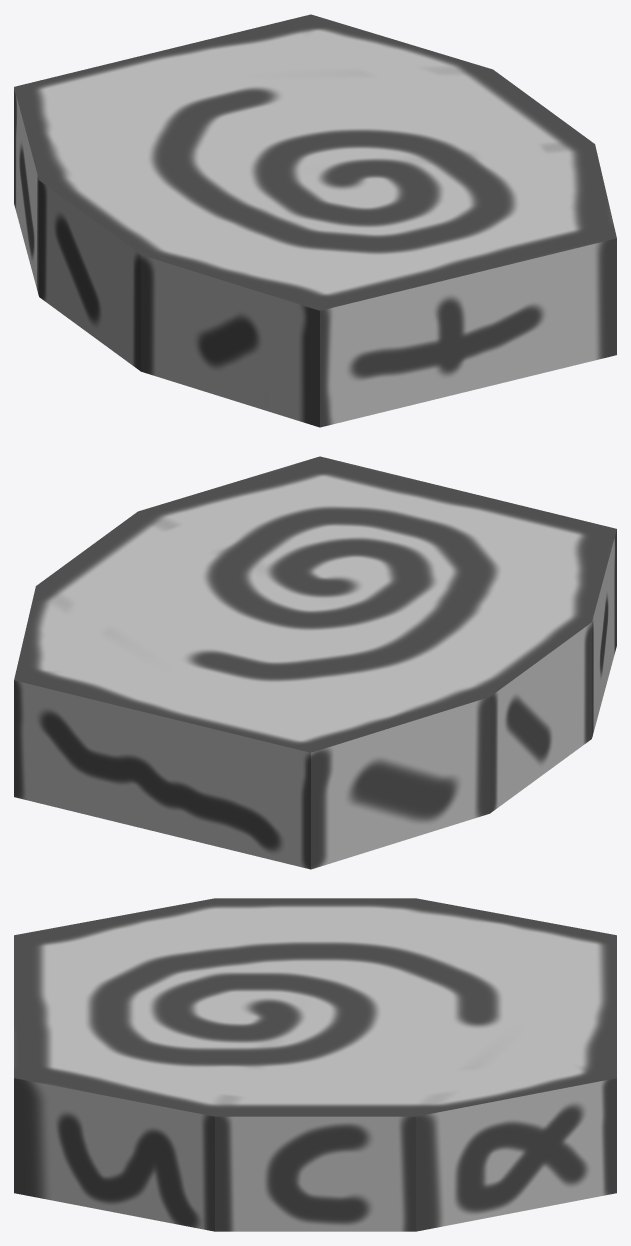
File: Stone6.fbx
The picture shows the model from 3 angles, top to bottom: view 1: azimuth 30°, elevation 25°; view 2: azimuth 150°, elevation 25°; view 3: azimuth 270°, elevation 25°; orthographic projection.
Parts seen in each view (by area): view 1: Cube; view 2: Cube; view 3: Cube.
Boxes of the visible parts, <box> form: Cube: <box>14,14,616,427</box>; Cube: <box>14,456,616,869</box>; Cube: <box>14,898,616,1231</box>.
Bounding box in the file's own units: 43.26 × 10.63 × 50.49.
Materials: 1 (1 with a texture image).
